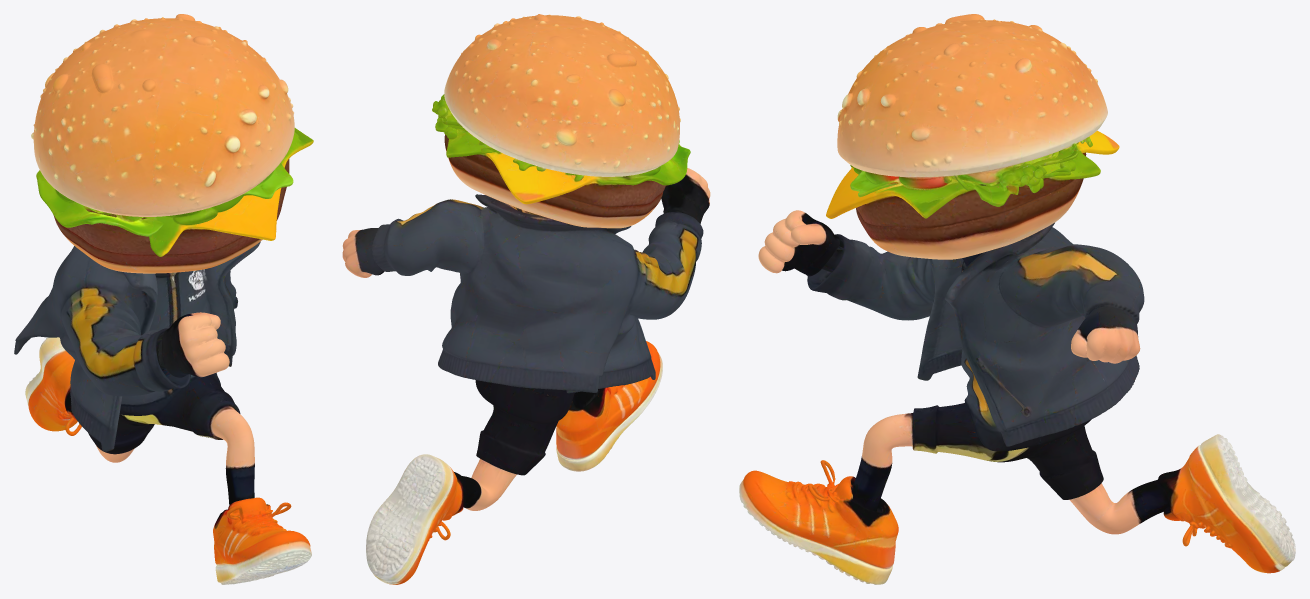
Rendered from hero_fighter.glb.
3 renders of one model, left to right at view 1: azimuth 30°, elevation 25°; view 2: azimuth 150°, elevation 25°; view 3: azimuth 270°, elevation 25°, orthographic. The views are drawn at different scales.
Bounding box in the file's own units: 1.1 × 1.9 × 1.79.
Materials: 1 (1 with a texture image).
